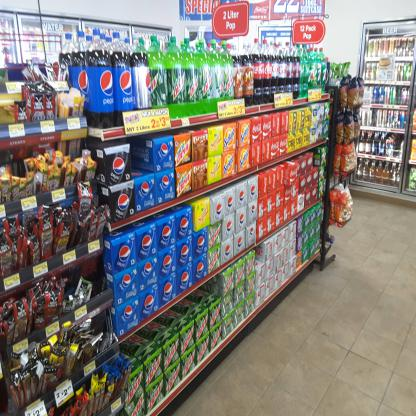Void: (88, 259, 106, 297), (134, 147, 150, 175), (256, 249, 262, 263)
